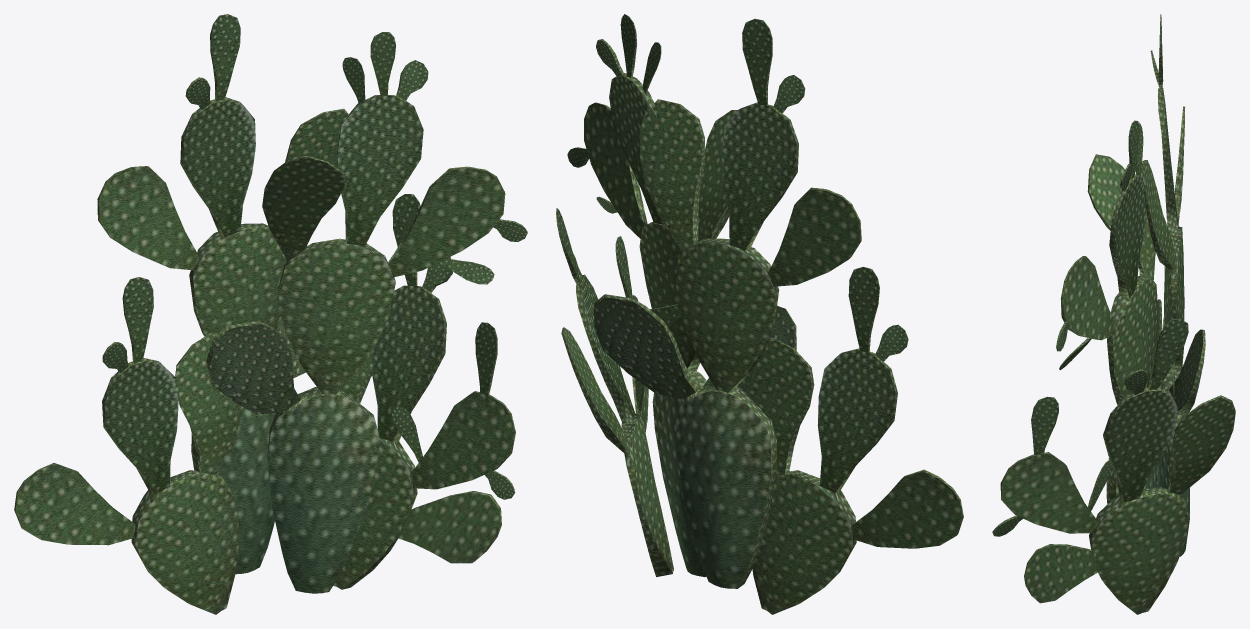
Rendered from Prickly_pear_group.FBX.
3 renders of one model, left to right at view 1: azimuth 30°, elevation 25°; view 2: azimuth 150°, elevation 25°; view 3: azimuth 270°, elevation 25°, orthographic. The views are drawn at different scales.
Parts seen in each view (by area): view 1: Prickly_pear_group; view 2: Prickly_pear_group; view 3: Prickly_pear_group.
Boxes of the visible parts, x1,y1,x2,y2 form: Prickly_pear_group: [14, 14, 527, 614]; Prickly_pear_group: [556, 14, 963, 614]; Prickly_pear_group: [992, 14, 1235, 614].
Size of the model in its own units: 73.92 by 91.88 by 37.04.
